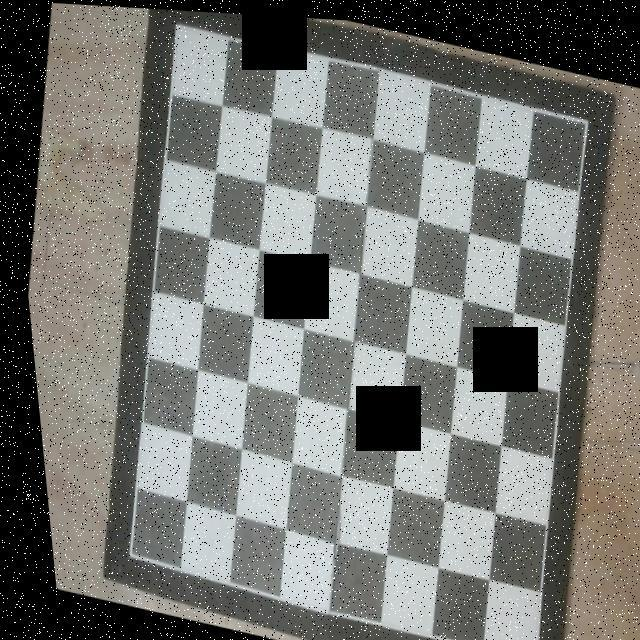chess-table-corners: (580, 110, 588, 117), (115, 550, 122, 557), (173, 19, 180, 26)
